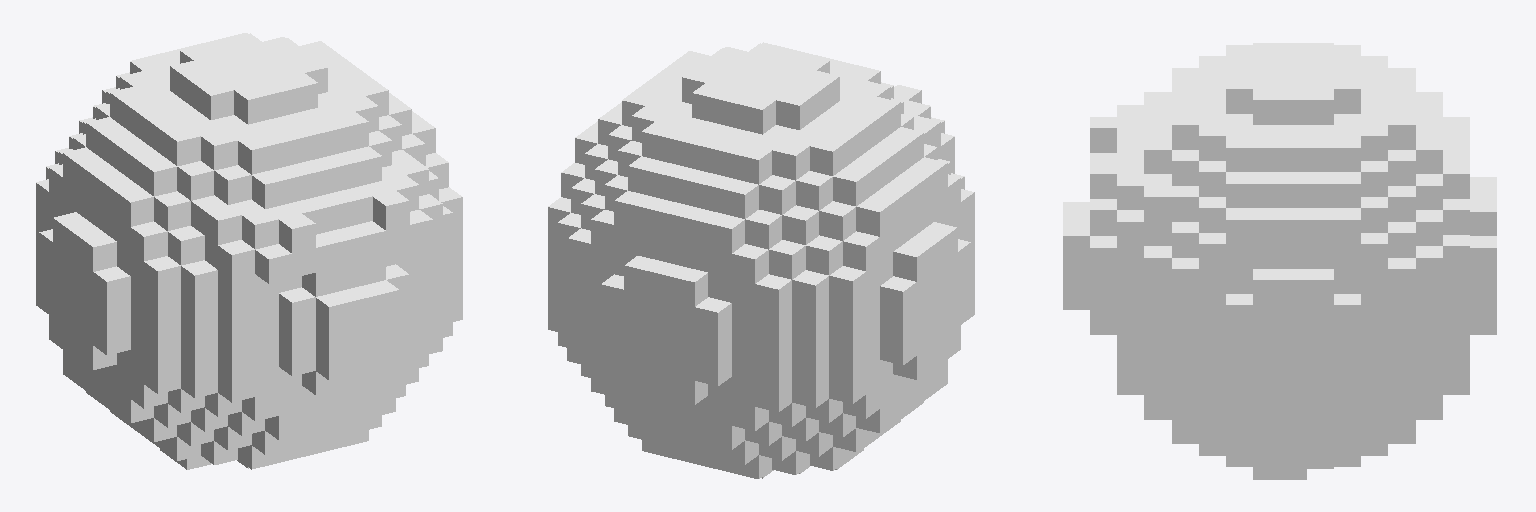
File: DuoCherryded2.obj
3 renders of one model, left to right at view 1: azimuth 30°, elevation 25°; view 2: azimuth 150°, elevation 25°; view 3: azimuth 270°, elevation 25°, orthographic.
Visible parts, largest first — view 1: object 1; view 2: object 1; view 3: object 1.
Part boxes in pixels (bbox=[...]): object 1: bbox=[36, 33, 462, 469]; object 1: bbox=[548, 42, 974, 478]; object 1: bbox=[1063, 43, 1496, 479].
Bounding box in the file's own units: 1.5 × 1.5 × 1.6.